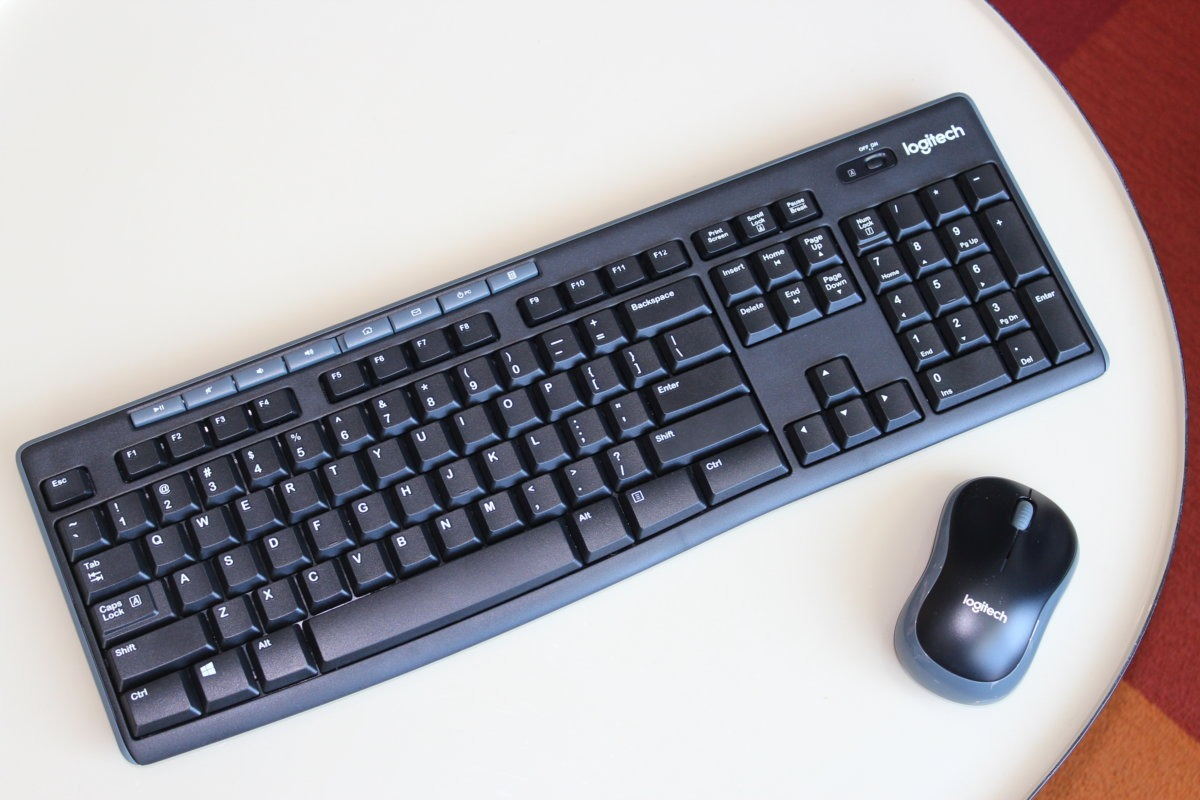mouse: (882, 462, 1104, 718)
